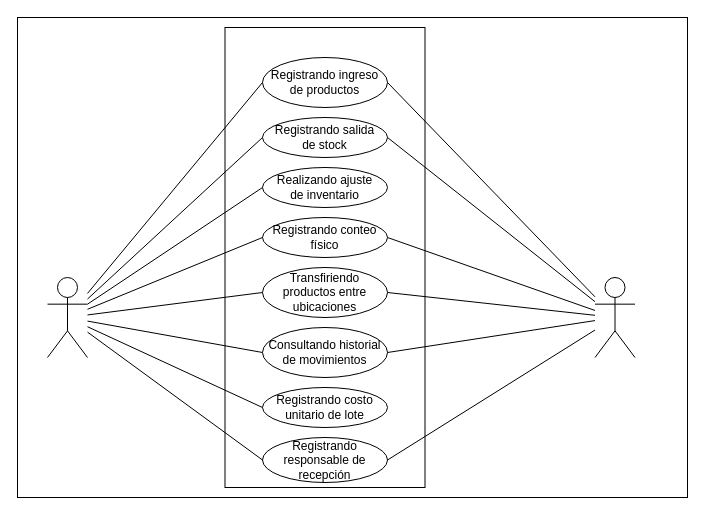
This 705x515 diagram has some shape labels left out. Each missing label, with the box of its shape:
Administrador: (46, 276, 88, 358)
Operador de inventario: (594, 276, 635, 358)
Sistema BrewFlow: (224, 26, 425, 488)
